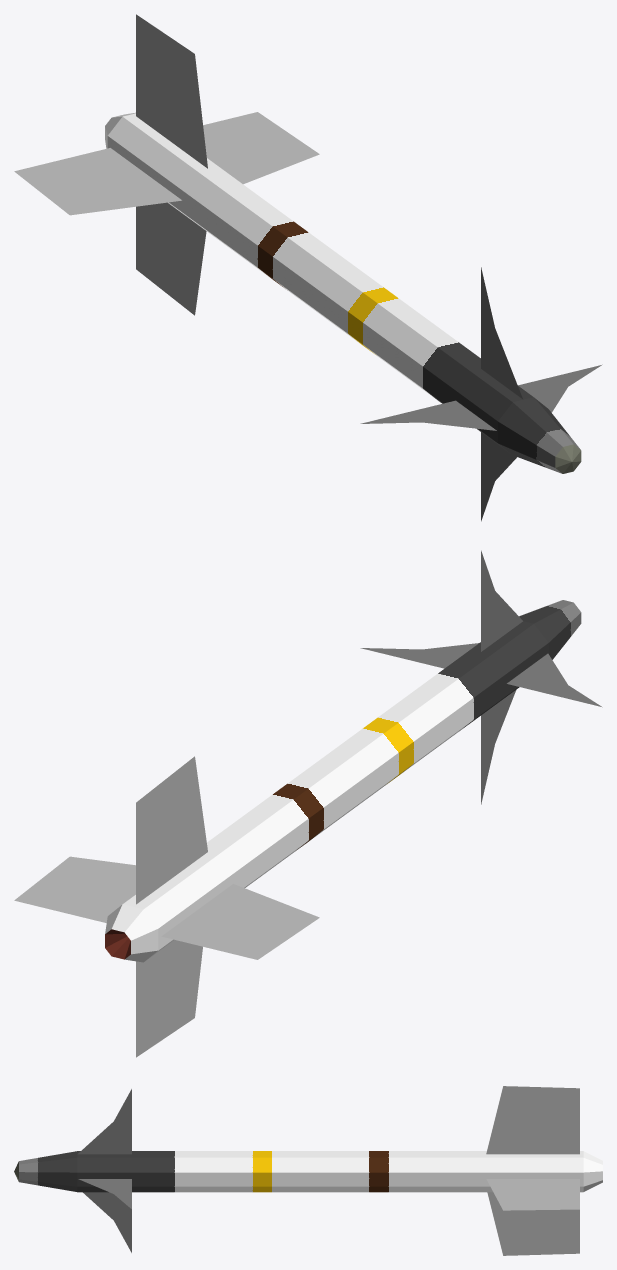
Rendered from aim9l.obj.
3 renders of one model, top to bottom at view 1: azimuth 30°, elevation 25°; view 2: azimuth 150°, elevation 25°; view 3: azimuth 270°, elevation 25°, orthographic. The views are drawn at different scales.
Parts seen in each view (by area): view 1: cylinder1, plane4, plane5, plane6, plane3, cylinder3, plane1, plane8, plane7, plane2; view 2: cylinder1, plane4, plane5, plane6, plane3, cylinder2, cylinder3, plane1, plane8, plane7, plane2; view 3: cylinder1, plane4, plane6, plane3, cylinder3, plane1, plane7, plane2, cylinder2.
Part boxes in pixels (x1,y1,x2,y2): cylinder1: (107, 113, 533, 453); plane4: (136, 14, 207, 168); plane5: (14, 148, 181, 215); plane6: (136, 202, 206, 315); plane3: (203, 112, 319, 184); cylinder3: (498, 397, 580, 473); plane1: (481, 267, 522, 398); plane8: (360, 400, 496, 430); plane7: (481, 432, 516, 521); plane2: (518, 364, 602, 412); cylinder1: (123, 621, 548, 959); plane4: (136, 756, 207, 904); plane5: (161, 884, 319, 959); plane6: (136, 940, 202, 1057); plane3: (14, 856, 135, 922); cylinder2: (105, 904, 158, 962); cylinder3: (519, 600, 581, 659); plane1: (481, 550, 522, 651); plane8: (507, 653, 602, 707); plane7: (481, 690, 516, 804); plane2: (360, 643, 478, 668); cylinder1: (77, 1151, 583, 1192); plane4: (486, 1086, 579, 1154); plane6: (487, 1192, 579, 1255); plane3: (486, 1179, 579, 1210); cylinder3: (19, 1151, 77, 1191); plane1: (78, 1089, 131, 1154); plane7: (83, 1192, 131, 1252); plane2: (78, 1179, 131, 1208); cylinder2: (583, 1151, 602, 1191).
Bounding box in the file's own units: 0.6016 × 0.6016 × 1.89.
